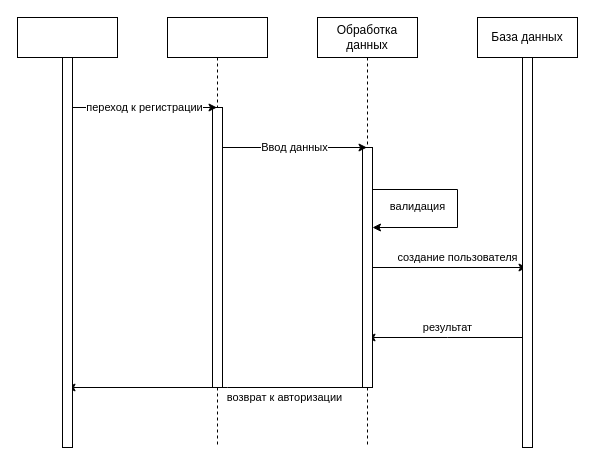
Image size: 595x465. Some labels were removed from this diagram. Here are the shapes that lost their labels. From the top down, the box of each, then its label:
(16, 16, 118, 448): Auth Form
(166, 16, 268, 448): Reg Form
